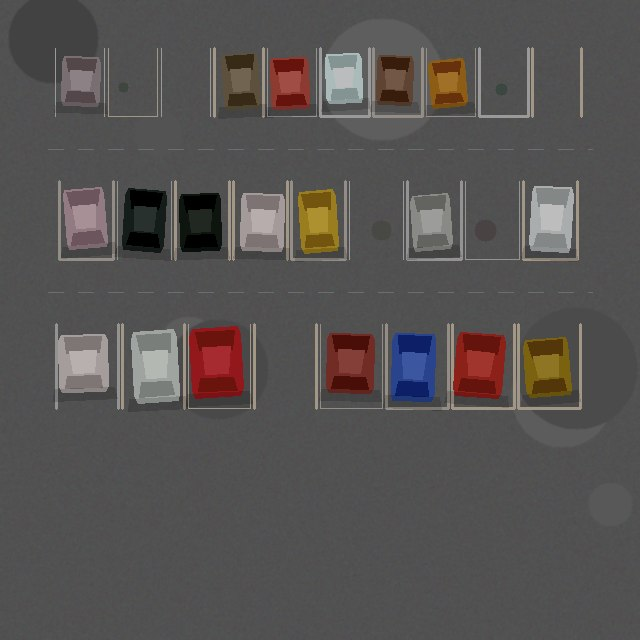space-empty: (254, 324, 316, 408), (349, 181, 403, 259), (465, 181, 519, 259), (108, 48, 157, 116), (161, 48, 210, 116), (479, 48, 528, 116), (532, 48, 581, 116)
space-occupied: (56, 324, 118, 408), (122, 324, 184, 408), (188, 324, 250, 408), (320, 324, 382, 408), (386, 324, 448, 408), (452, 324, 514, 408), (518, 324, 580, 408), (59, 181, 113, 259), (117, 181, 171, 259), (175, 181, 229, 259), (233, 181, 287, 259), (291, 181, 345, 259), (407, 181, 461, 259), (523, 181, 577, 259), (55, 48, 104, 116), (214, 48, 263, 116), (267, 48, 316, 116), (320, 48, 369, 116), (373, 48, 422, 116), (426, 48, 475, 116)
